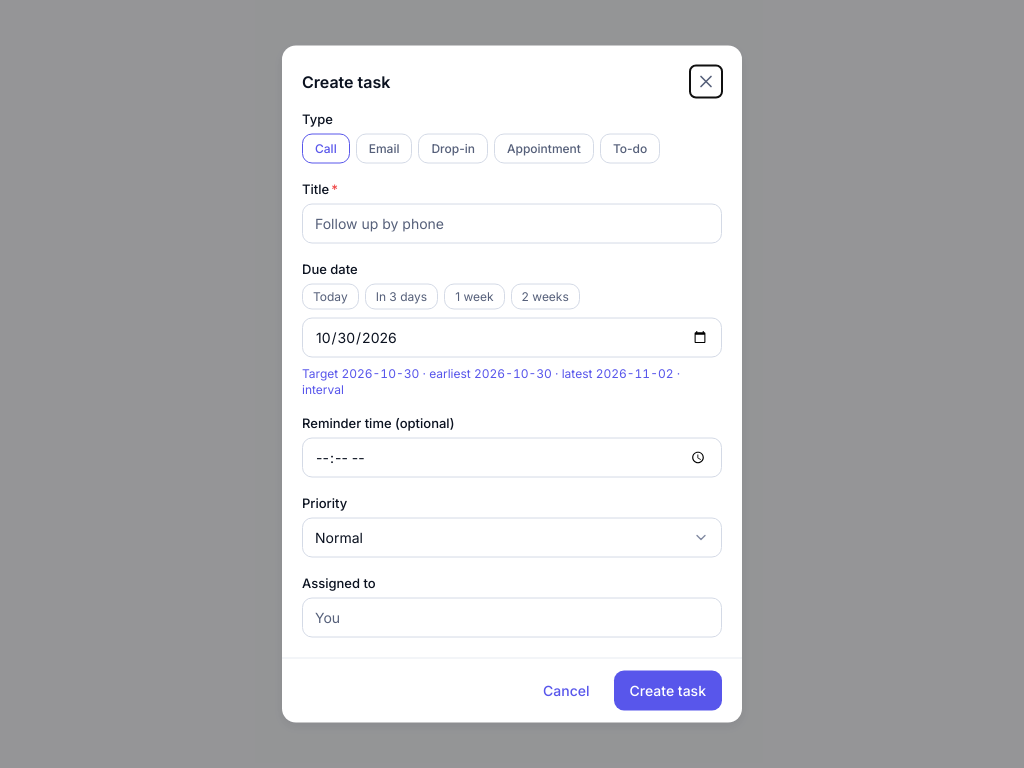
Test: CreateTaskSheet › blocks submit with an empty title
Click the button "Create task". click: (668, 690)
box: [614,670,722,710]
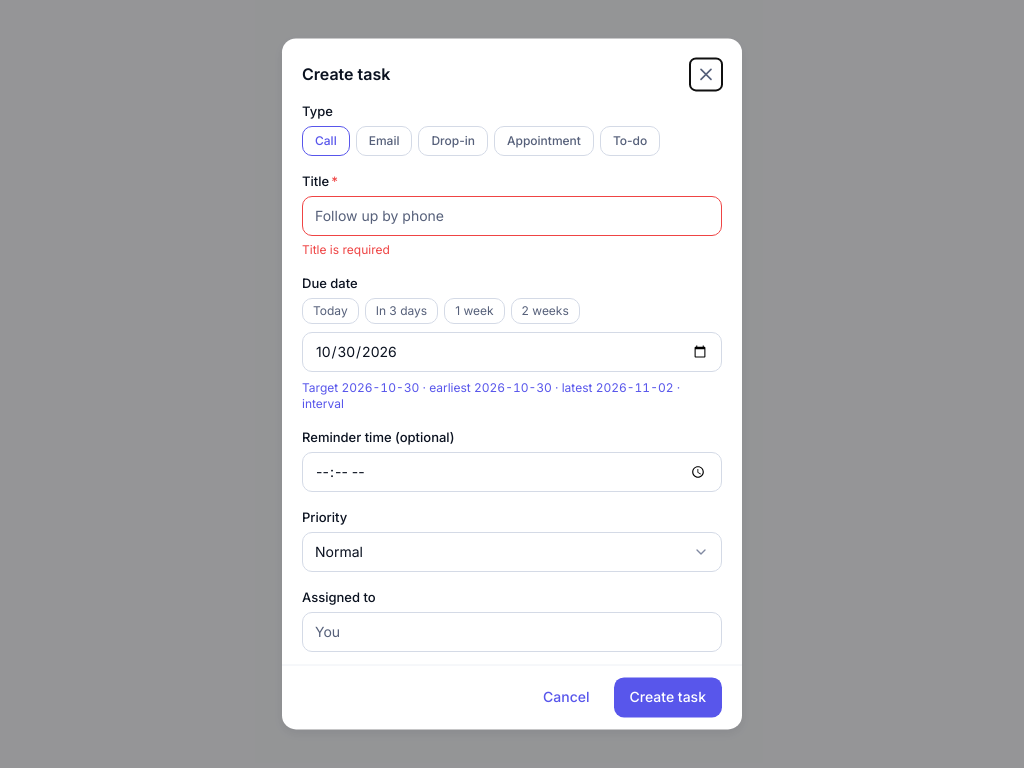
Expected: the text "Title is required" is shown, [302,242,390,257]
